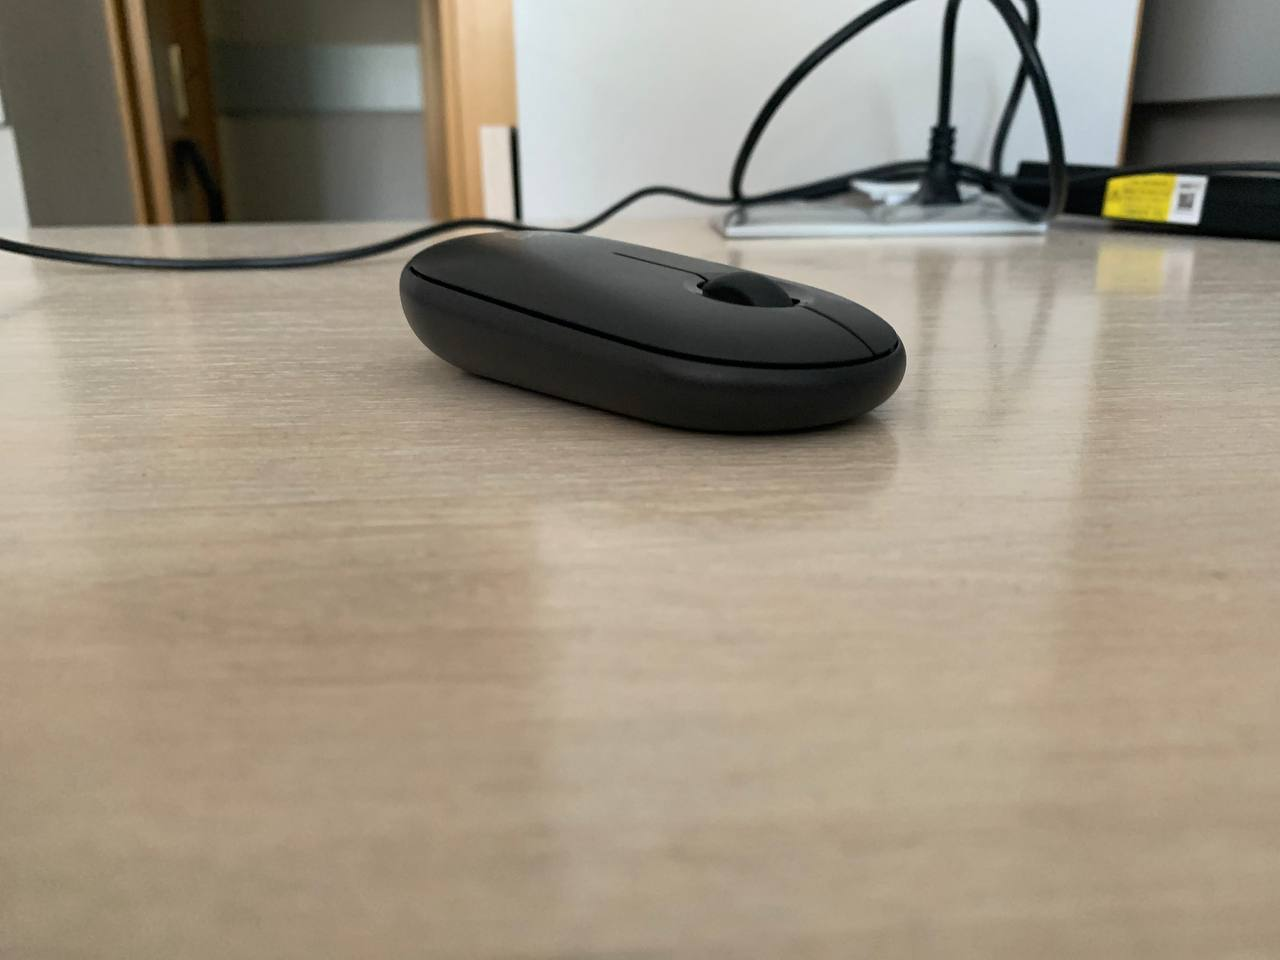mouse: (401, 232, 904, 433)
